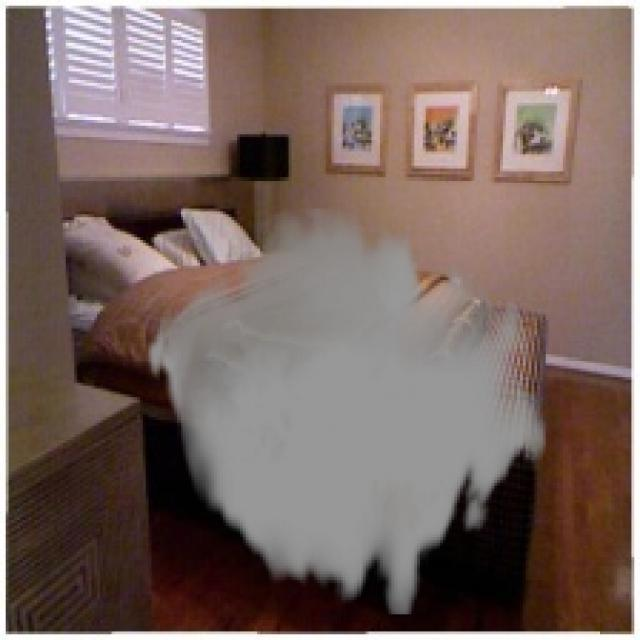smoke: (146, 209, 548, 614)
